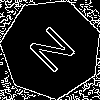N: (26, 24, 84, 82)
